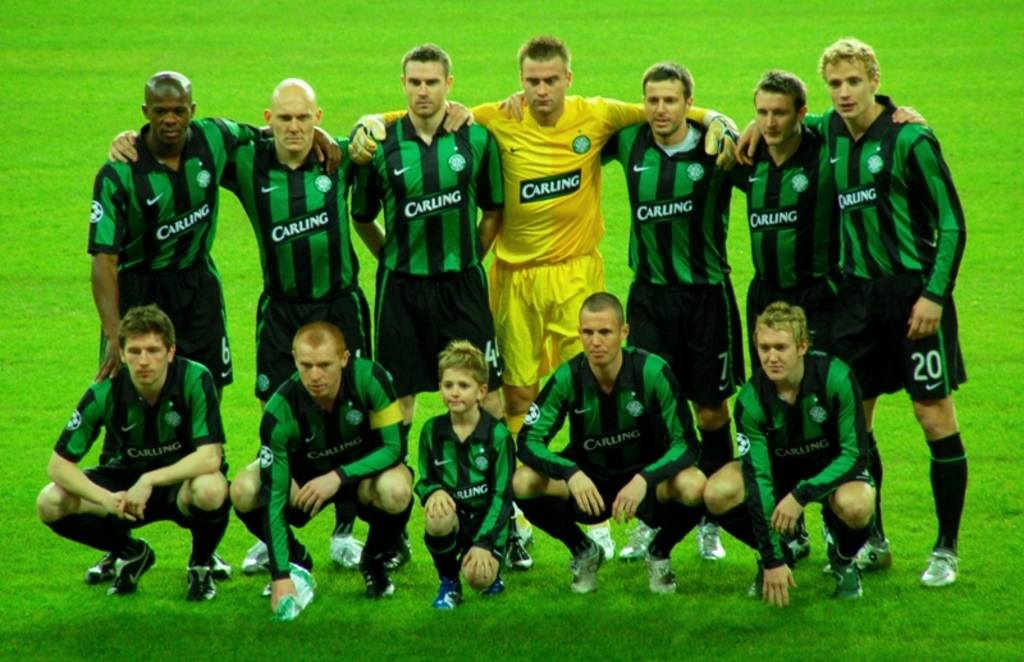Person: (36, 34, 968, 612)
